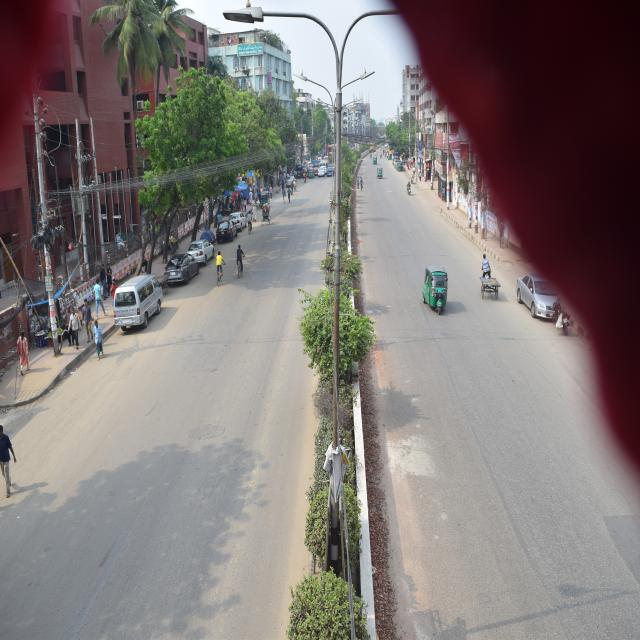car: (514, 264, 561, 319), (166, 253, 198, 288), (187, 238, 219, 257), (232, 194, 249, 227), (220, 218, 236, 235), (318, 163, 330, 178)
microbus: (110, 274, 164, 325)
motorbike: (559, 296, 574, 350), (403, 178, 416, 202)
